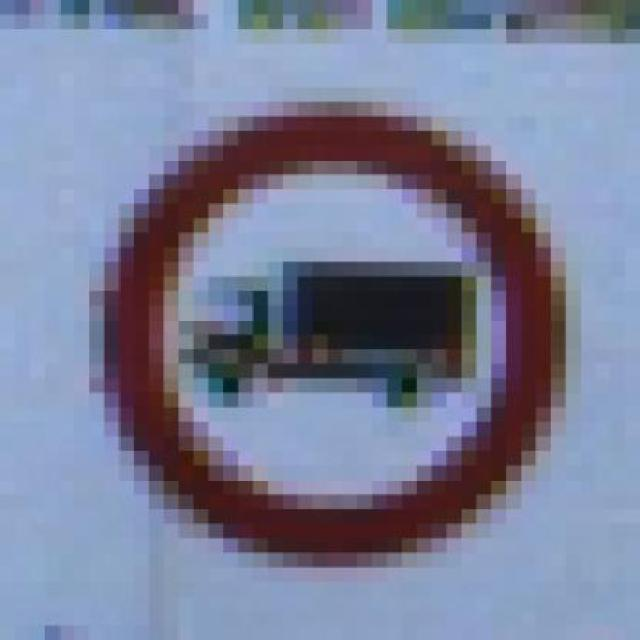Truck traffic is prohibited: (90, 87, 596, 553)
